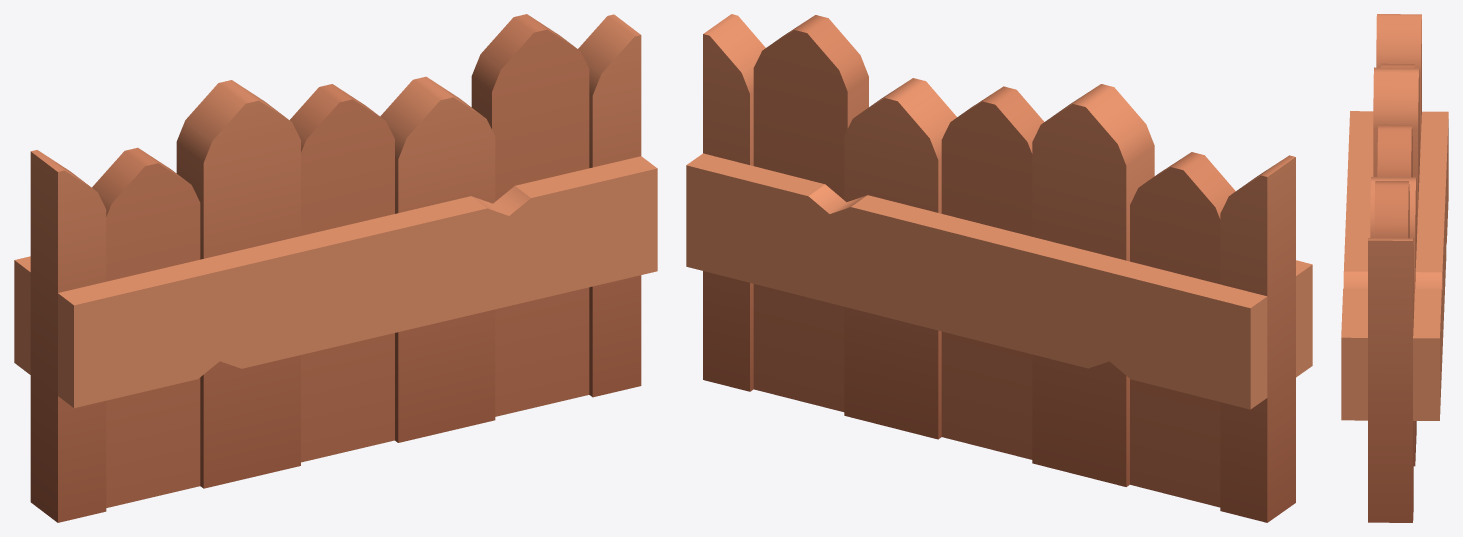
The model's file is fence.006_lev2.glb.
3 renders of one model, left to right at view 1: azimuth 30°, elevation 25°; view 2: azimuth 150°, elevation 25°; view 3: azimuth 270°, elevation 25°, orthographic. The views are drawn at different scales.
Parts seen in each view (by area): view 1: fence.006_lev2; view 2: fence.006_lev2; view 3: fence.006_lev2.
Boxes of the visible parts, left/top/right/bottom form: fence.006_lev2: left=14, top=14, right=657, bottom=522; fence.006_lev2: left=686, top=14, right=1312, bottom=522; fence.006_lev2: left=1341, top=14, right=1448, bottom=522.
Bounding box in the file's own units: 8.02 × 4.96 × 1.6.
1 material, 1 textured.
